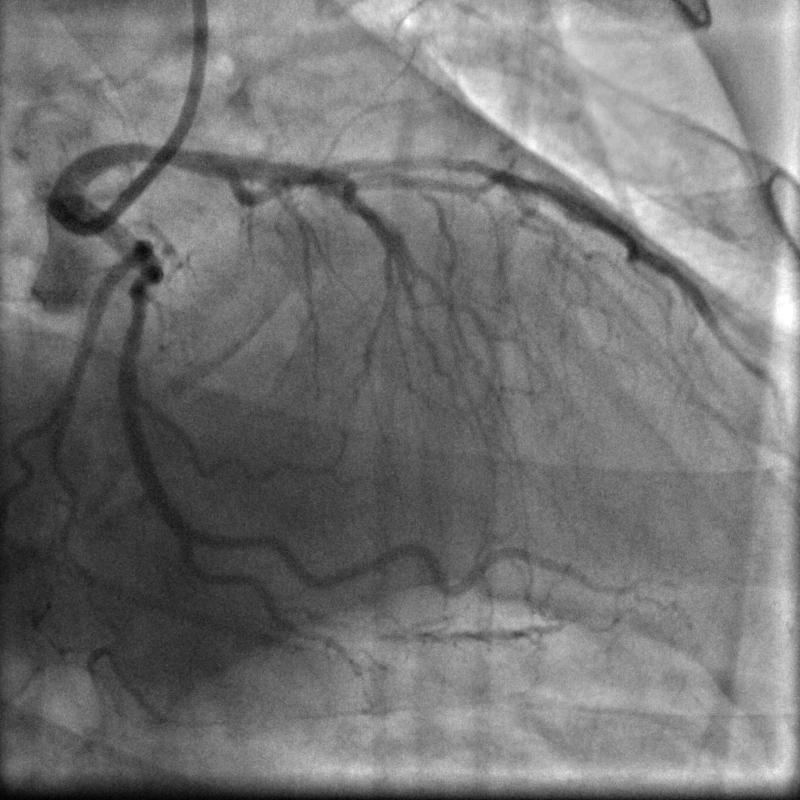Stenosis: (128, 242, 164, 311)
